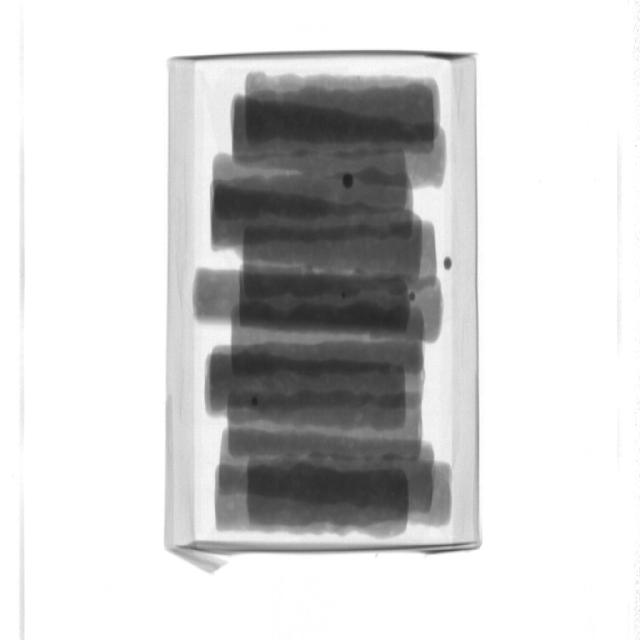ym: (343, 174, 355, 190), (446, 257, 454, 269), (409, 292, 418, 301), (252, 396, 260, 406), (344, 293, 350, 299)
